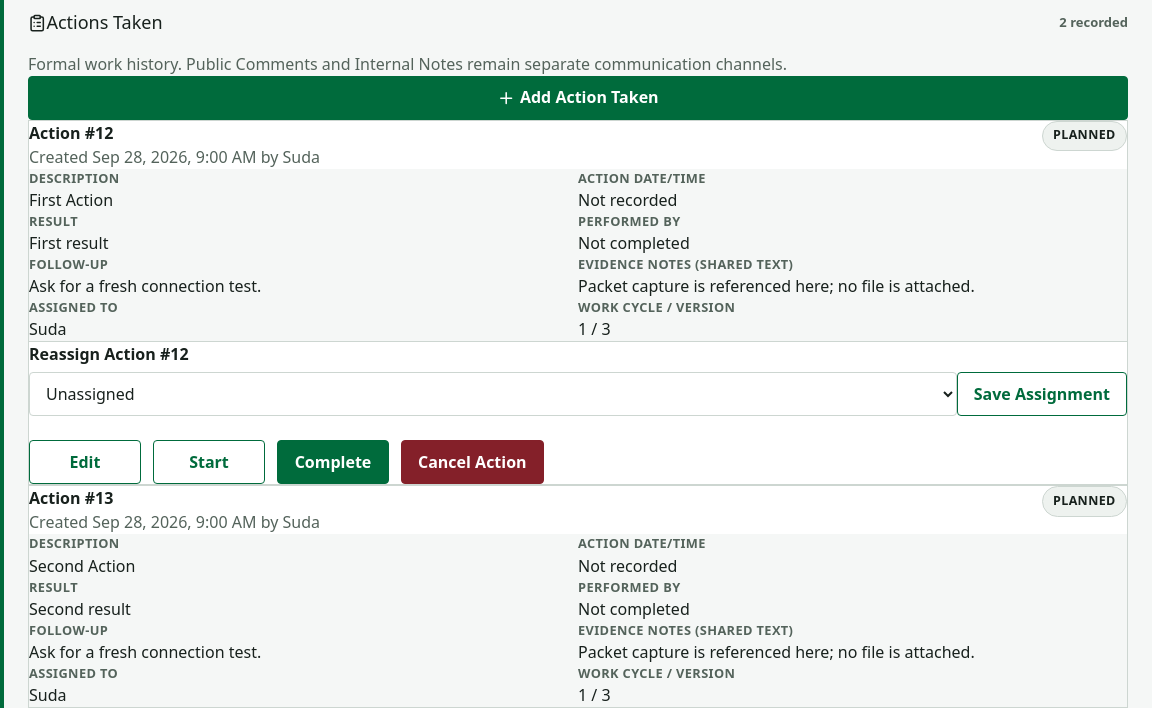
Actions Taken Ticket Detail UI › resets local form state when the editor kind or Action target changes
Click the button "Edit".
click(85, 462)  # box [29,440,141,484]
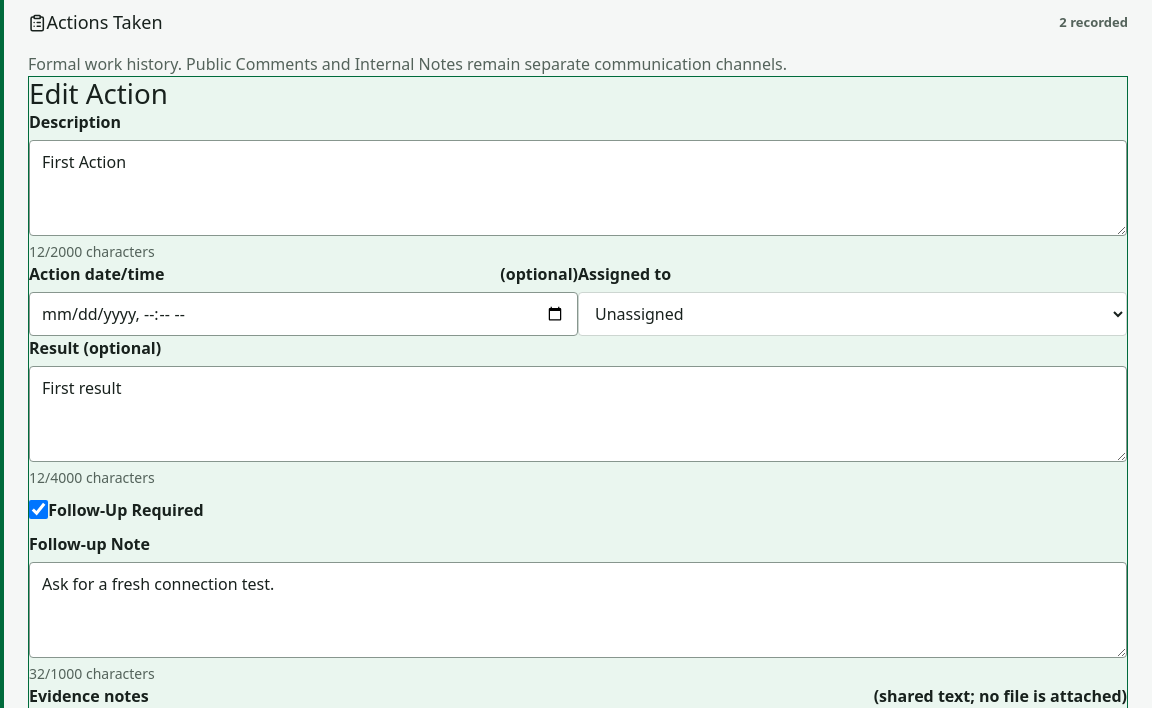
Replace the text in the text box labelled "Description" with "Unsaved first draft" at [578, 188], box [29,140,1127,236]
(page scrolled)
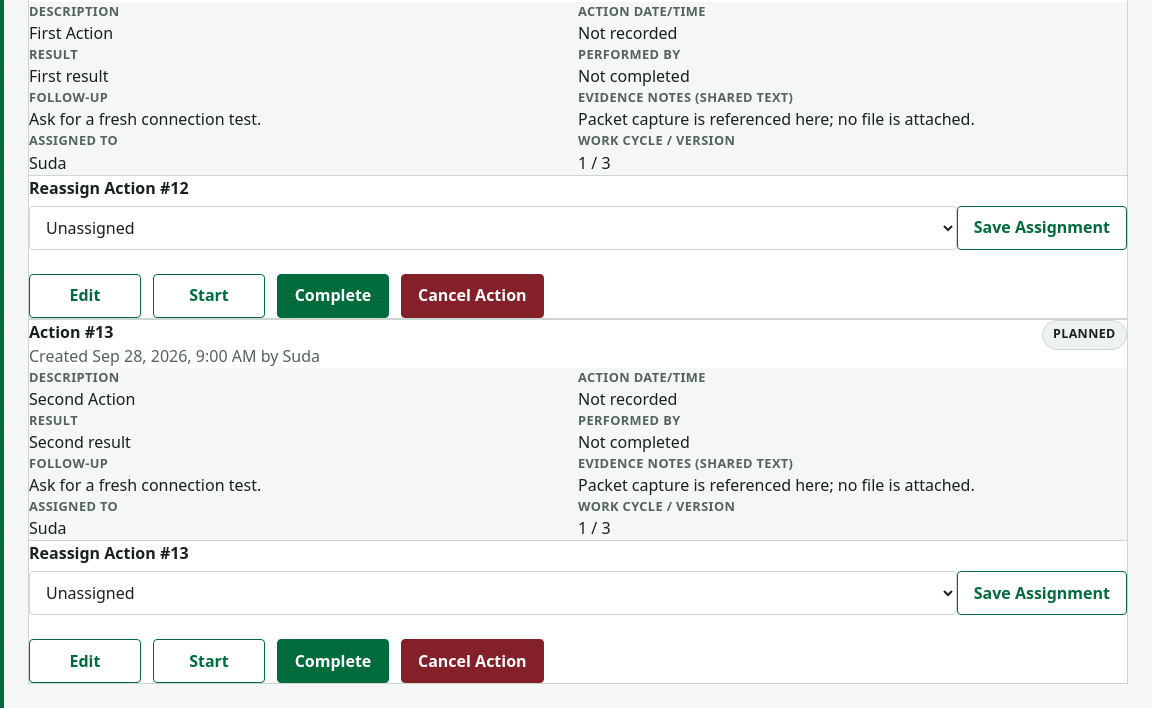
Click the button "Complete" below "Second result".
click(333, 661)  # box [277,639,389,683]
(page scrolled)
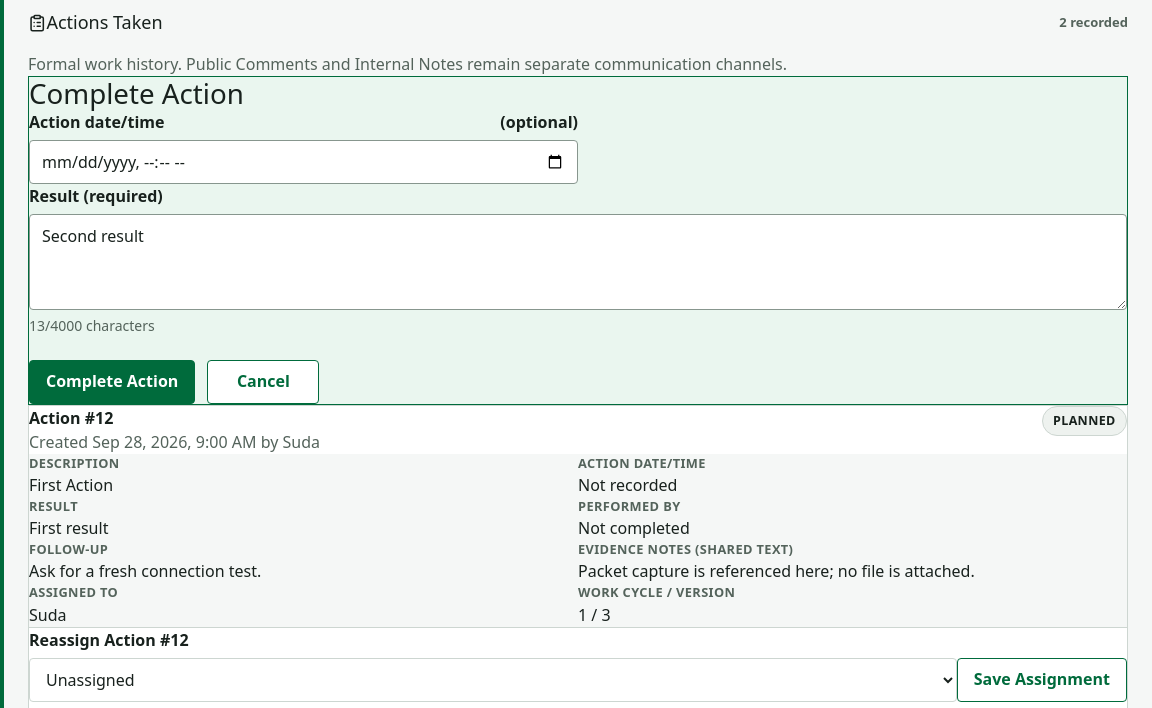
Now the text box labelled "Result (required)" holds "Second result", box [29,214,1127,310]
